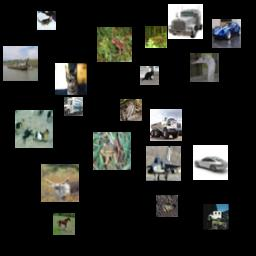airplane: (146, 146, 181, 181)
automobile: (193, 145, 228, 180), (212, 19, 241, 48)
bird: (15, 110, 53, 148), (190, 53, 219, 82)
cat: (55, 63, 87, 95), (37, 11, 56, 30), (140, 66, 159, 85)
deer: (41, 164, 79, 202), (145, 26, 167, 48)
frog: (93, 132, 131, 170), (97, 27, 132, 62), (156, 195, 178, 217), (120, 99, 142, 121)
ship: (3, 46, 38, 81)
truck: (168, 4, 203, 39), (150, 109, 182, 141), (203, 204, 229, 230), (64, 97, 83, 116)
